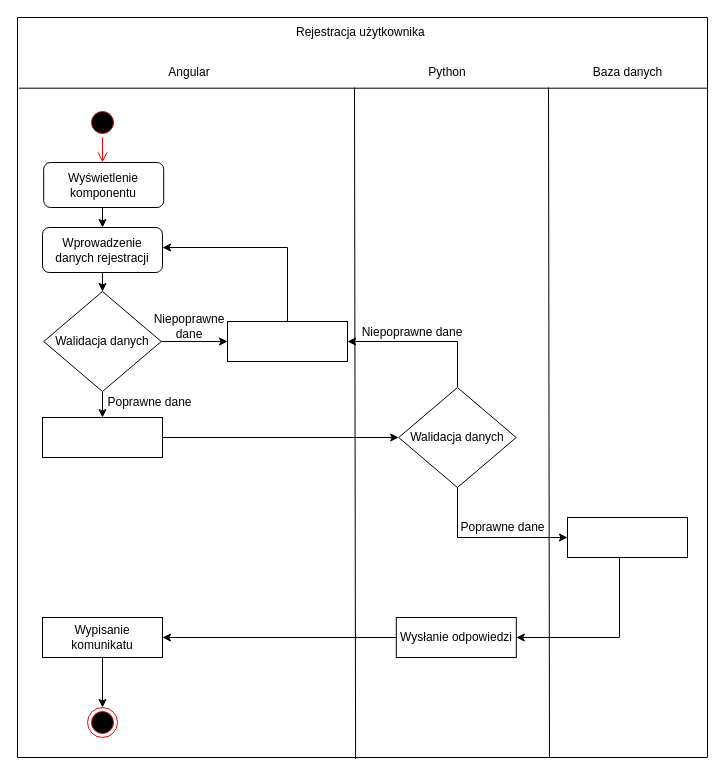
This 726x778 diagram has some shape labels left out. The shapes that lost their labels are listed below. From the top down, each one's box as (x1, y1, x2, y2) in pixels, then its label:
(226, 320, 348, 362): Wypisanie informacji
(42, 416, 162, 458): Wywołanie funkcji w Flask
(566, 516, 688, 558): Zapis danych
